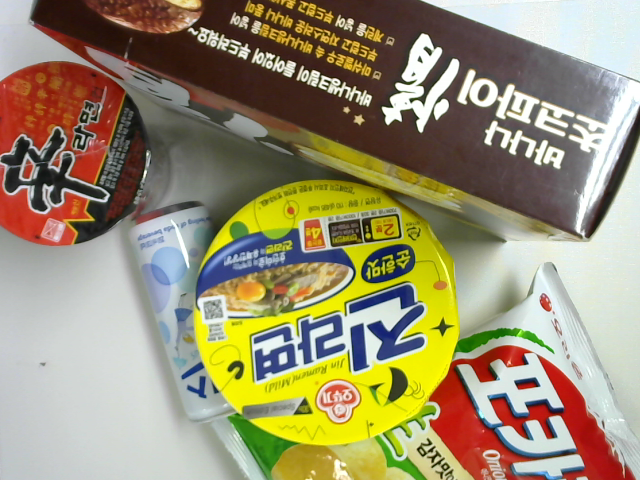Choco_Pie_Banana: (27, 1, 640, 243)
Jinlamyeon_Mild_Taste_Large_Cup: (194, 176, 463, 445)
Milkies_250ml: (130, 199, 234, 425)
Pocachip_Onion: (197, 259, 640, 480)
Sinramen_small: (1, 59, 172, 247)
